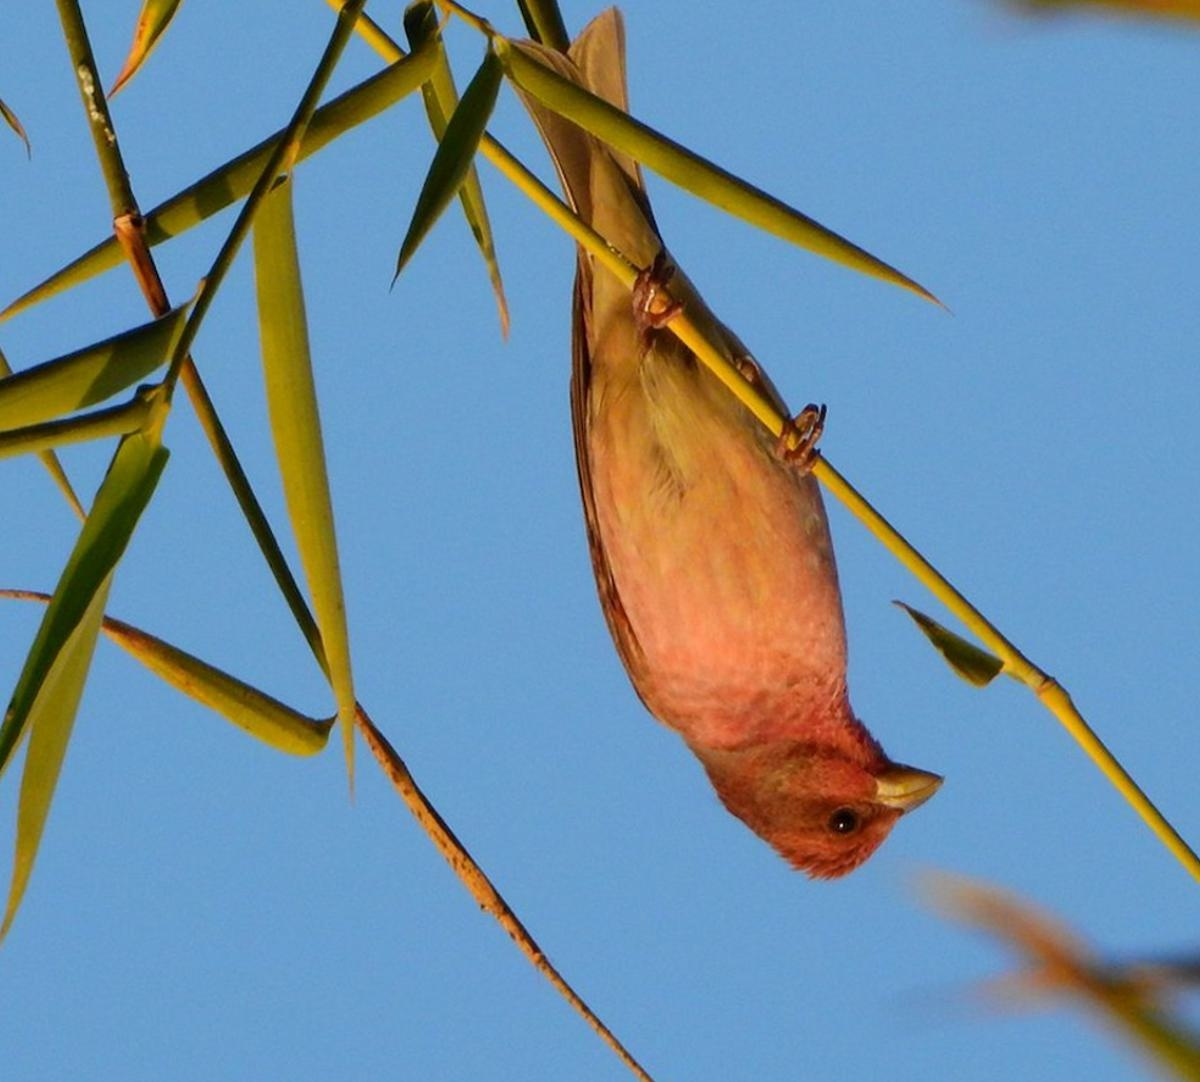rosefinch: (513, 131, 961, 891)
